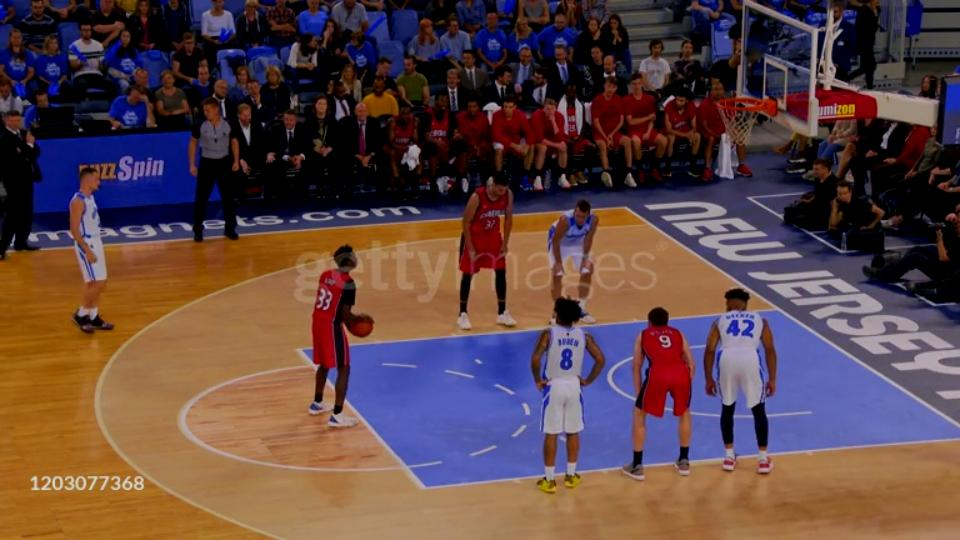hoop: (714, 94, 784, 117)
